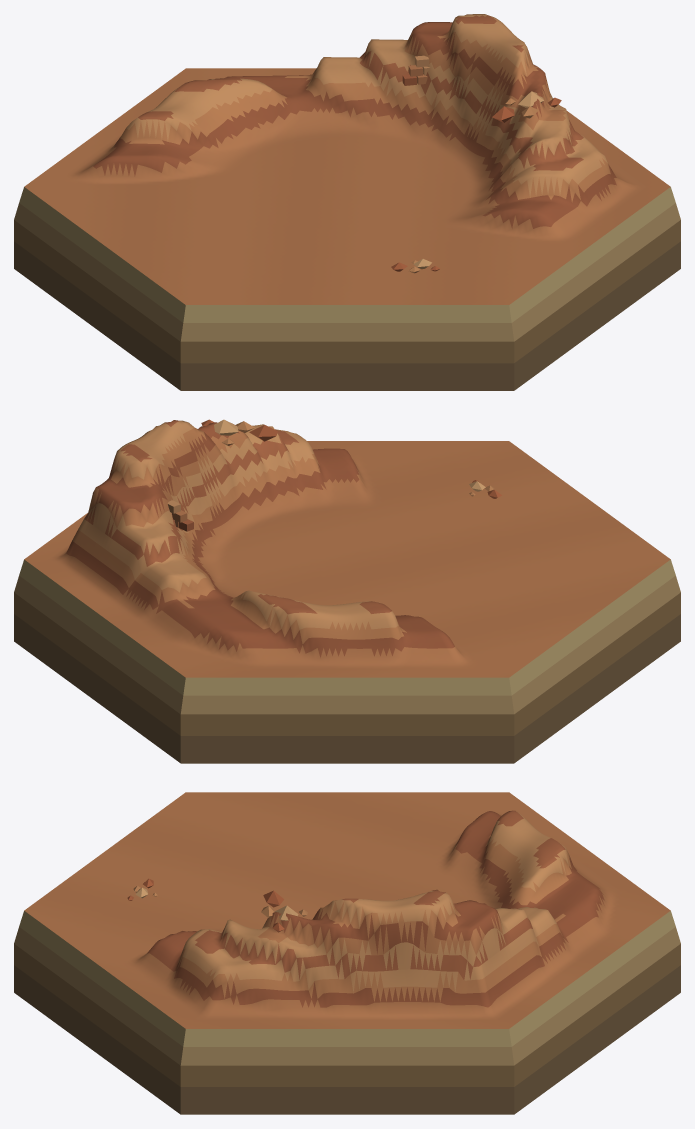
Rendered from catan_terrain_clay_02.glb.
The picture shows the model from 3 angles, top to bottom: view 1: azimuth 30°, elevation 25°; view 2: azimuth 150°, elevation 25°; view 3: azimuth 270°, elevation 25°; orthographic projection.
Parts seen in each view (by area): view 1: catan_terrain_clay_02_ground, catan_terrain_clay_02_decoration; view 2: catan_terrain_clay_02_ground, catan_terrain_clay_02_decoration; view 3: catan_terrain_clay_02_ground, catan_terrain_clay_02_decoration.
Boxes of the visible parts, <box> form: catan_terrain_clay_02_ground: <box>14,14,680,390</box>; catan_terrain_clay_02_decoration: <box>391,55,561,273</box>; catan_terrain_clay_02_ground: <box>14,420,680,763</box>; catan_terrain_clay_02_decoration: <box>167,419,501,531</box>; catan_terrain_clay_02_ground: <box>14,792,680,1114</box>; catan_terrain_clay_02_decoration: <box>127,878,307,932</box>.
Size of the model in its own units: 1.71 by 0.5795 by 1.97.
